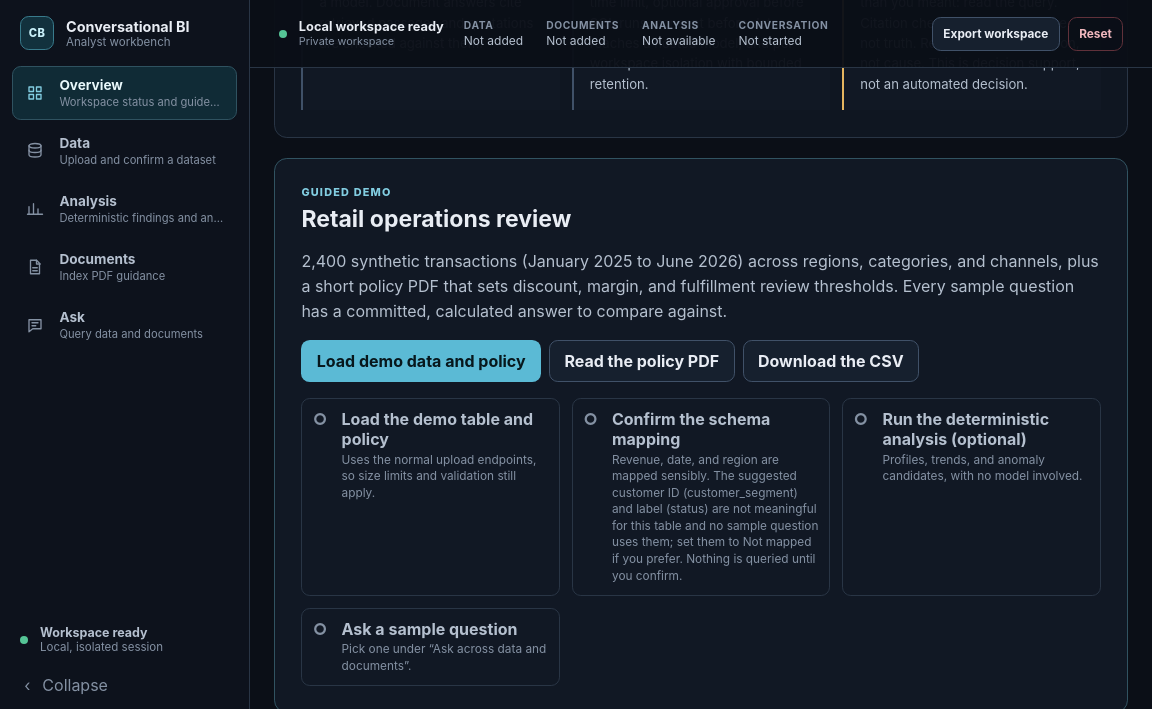
Test: sample questions › loads the demo through the ordinary upload operations and still requires schema review
(page scrolled)
Expected: the text "Local workspace ready" is shown, top-left (299, 19), bottom-right (444, 34)
Click the button "Load demo data and policy" at (421, 361), box top-left (301, 340), bottom-right (541, 382)
(page scrolled)
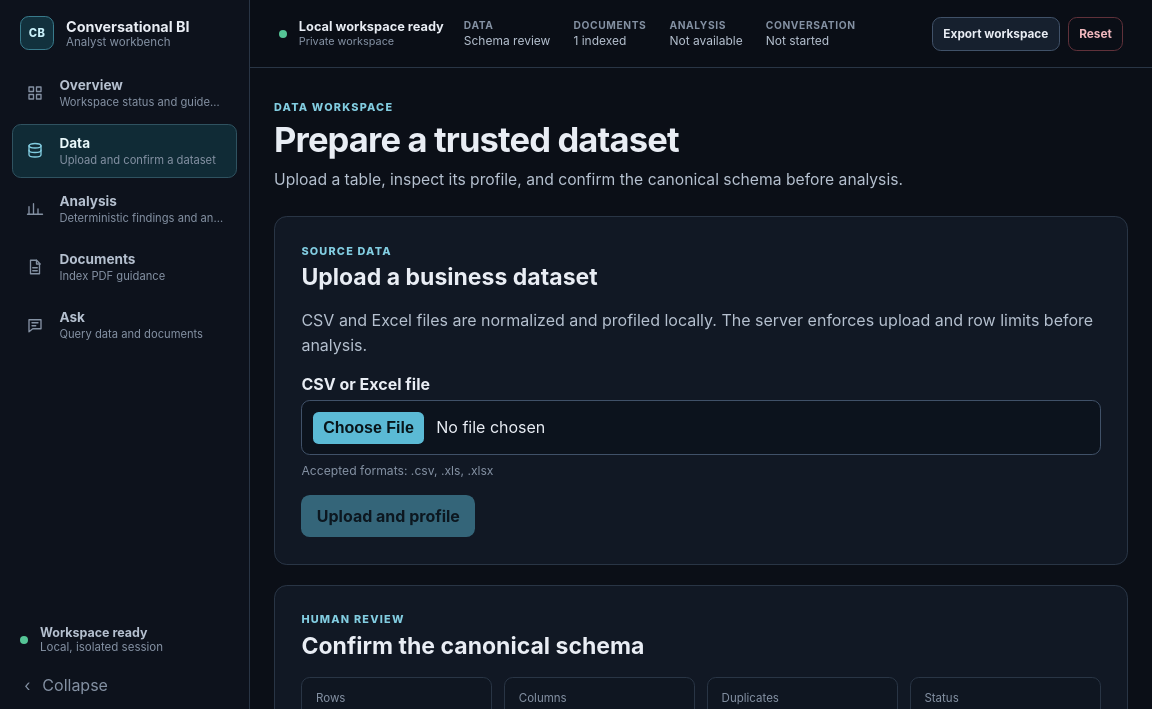
Expected: the heading "Confirm the canonical schema" is shown, top-left (301, 632), bottom-right (644, 661)
Click the link "Ask Query data and documents" at (115, 325), box top-left (26, 309), bottom-right (203, 341)
(page scrolled)
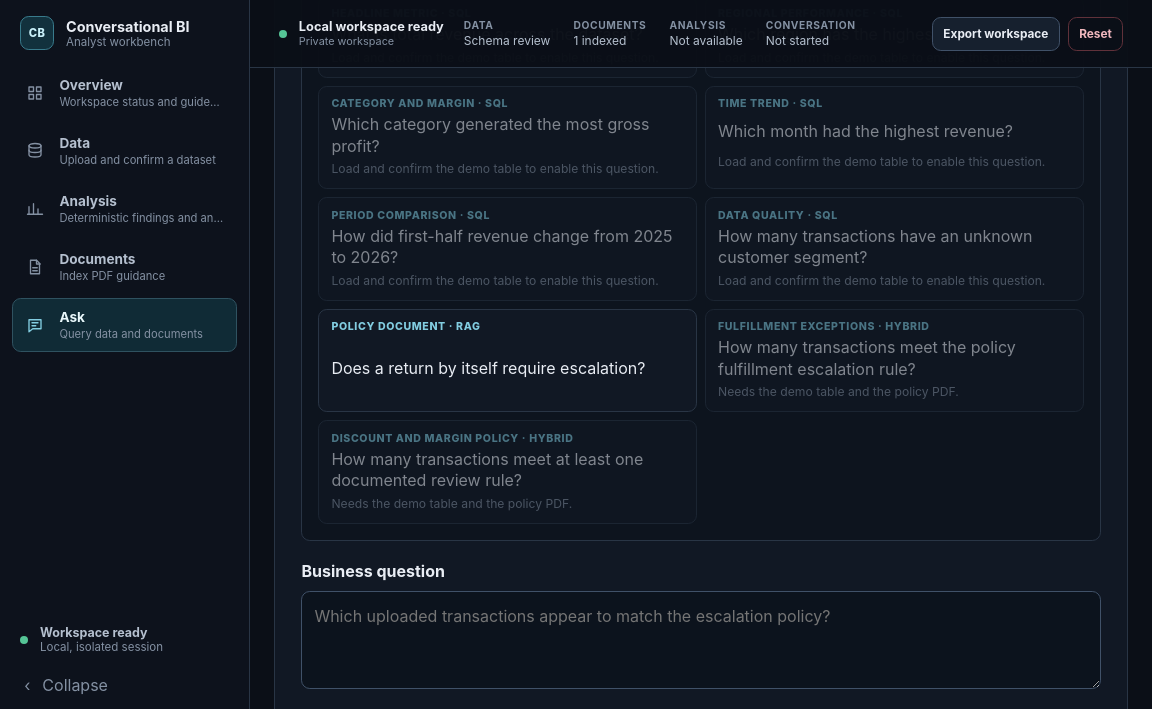
Expected: the button "Does a return by itself require escalation" is enabled, top-left (318, 309), bottom-right (697, 412)
